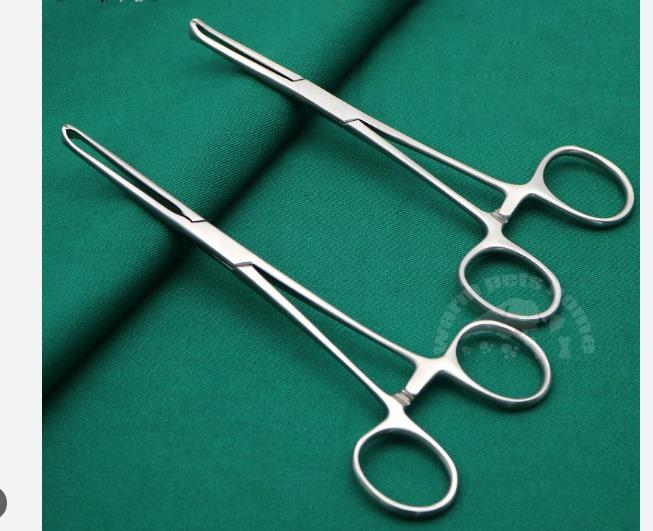Allis Forceps: (55, 113, 556, 524), (183, 5, 648, 322)
